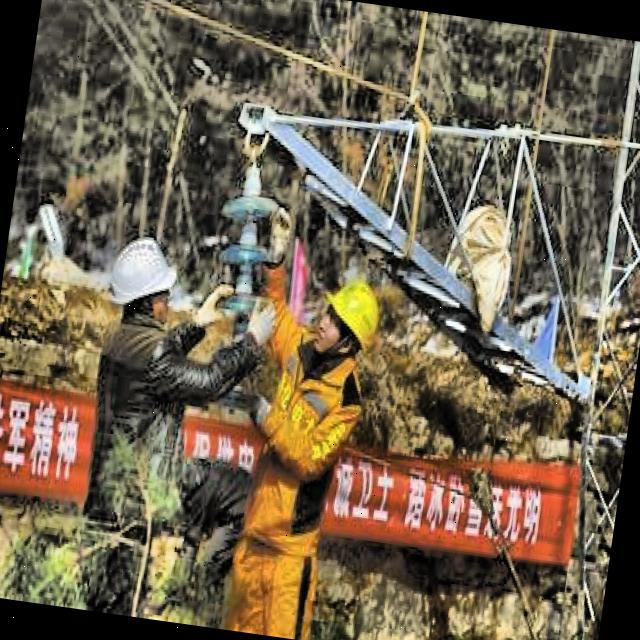helmet: (100, 223, 188, 343), (304, 272, 390, 369)
